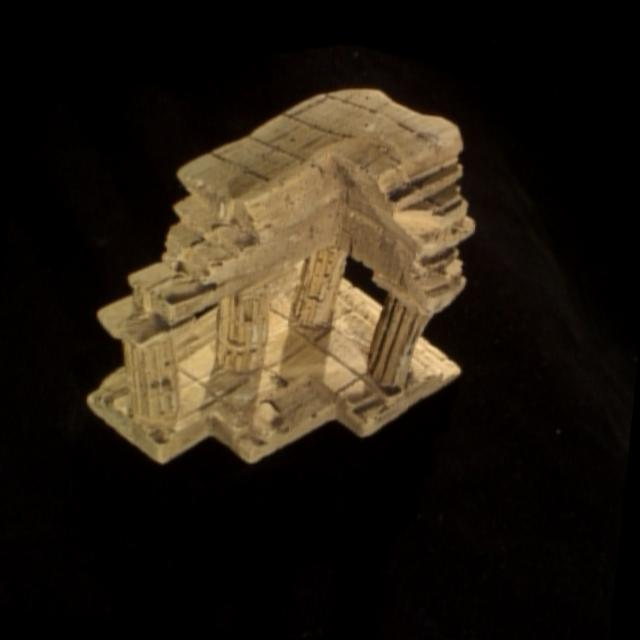Instance-Segmentation: (87, 88, 473, 460)
